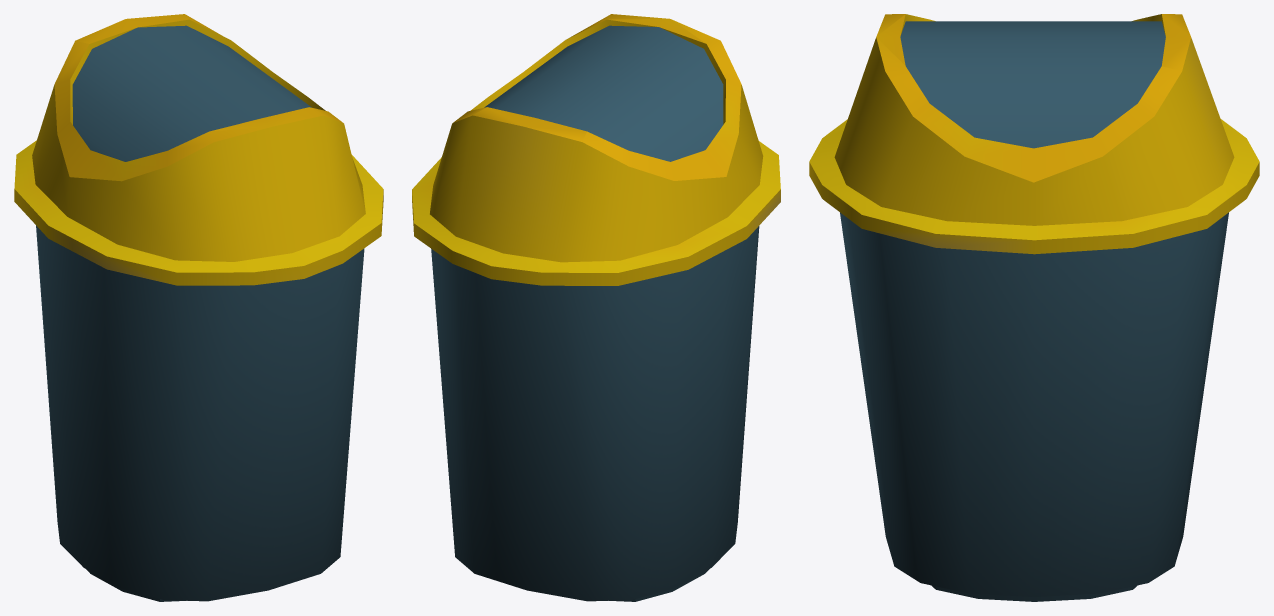
File: Trash.fbx
3 views of the same model, side by side, from view 1: azimuth 30°, elevation 25°; view 2: azimuth 150°, elevation 25°; view 3: azimuth 270°, elevation 25° (orthographic). The views are drawn at different scales.
Parts seen in each view (by area): view 1: Trash; view 2: Trash; view 3: Trash.
Boxes of the visible parts, x1,y1,x2,y2 form: Trash: [14, 14, 383, 601]; Trash: [412, 14, 780, 601]; Trash: [809, 14, 1259, 601].
Size of the model in its own units: 196 by 296 by 238.
